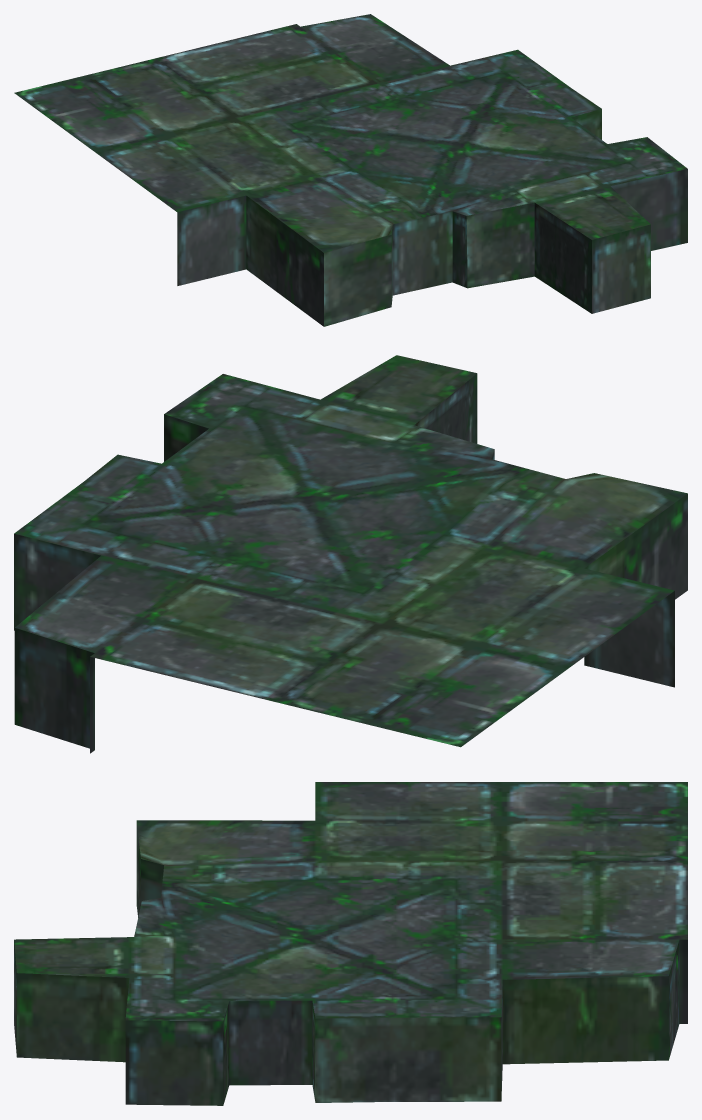
Rendered from stemple_floor_concave_03.fbx.
The picture shows the model from 3 angles, top to bottom: view 1: azimuth 30°, elevation 25°; view 2: azimuth 150°, elevation 25°; view 3: azimuth 270°, elevation 25°; orthographic projection. The views are drawn at different scales.
Visible parts, largest first — view 1: obj1.089; view 2: obj1.089; view 3: obj1.089.
Boxes of the visible parts, bbox=[...] form: obj1.089: bbox=[14, 14, 687, 326]; obj1.089: bbox=[14, 355, 687, 753]; obj1.089: bbox=[14, 782, 687, 1105].
Size of the model in its own units: 3.04 by 0.5 by 3.62.
